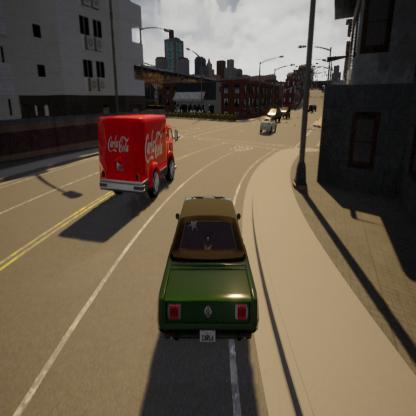Cars: (158, 194, 260, 346), (98, 114, 176, 204), (260, 117, 278, 137), (268, 108, 280, 121), (280, 108, 291, 120), (308, 104, 318, 116)
